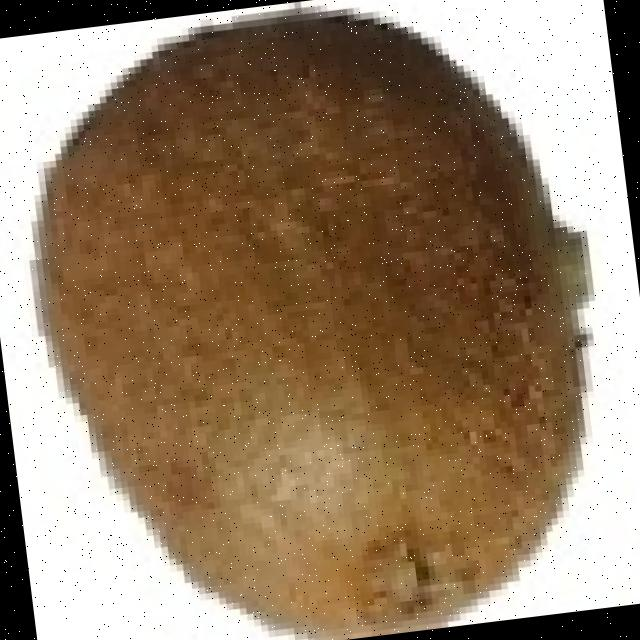kiwi: (31, 26, 575, 640)
